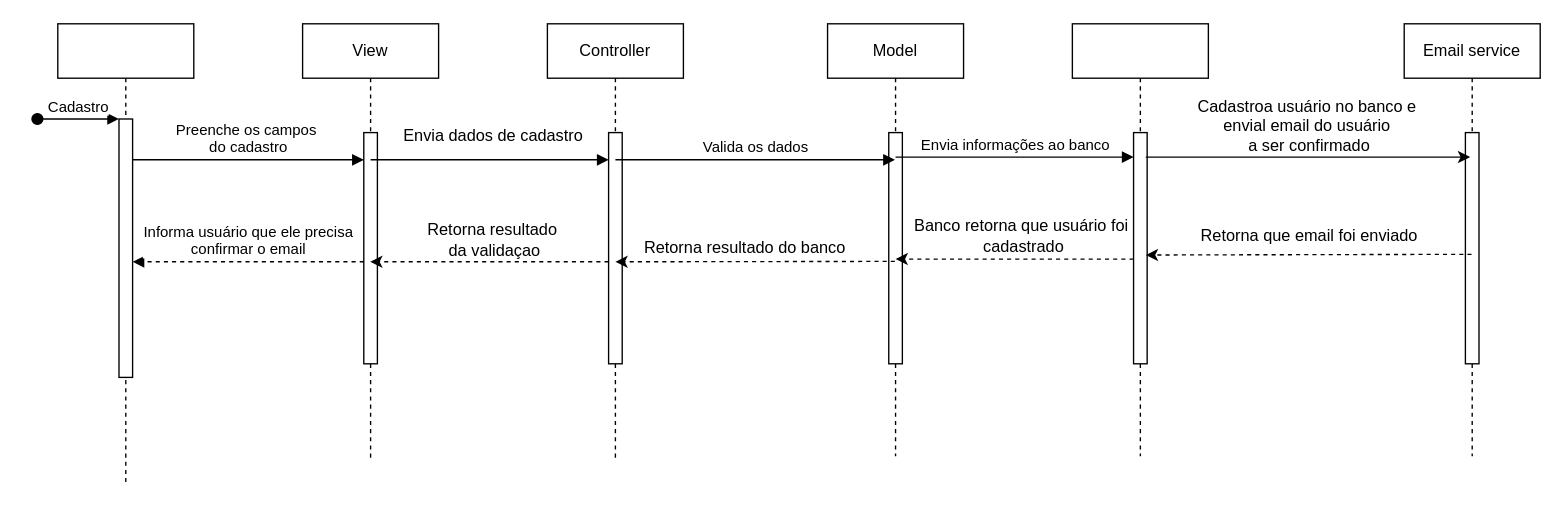
Some shapes in this 1564 by 510 pixel diagram are drawn without their labels. Here are the shapes that lost their labels. From the top down, the box of each, then its label:
(56, 22, 194, 486): Usuário
(1071, 22, 1208, 456): Banco de dados
